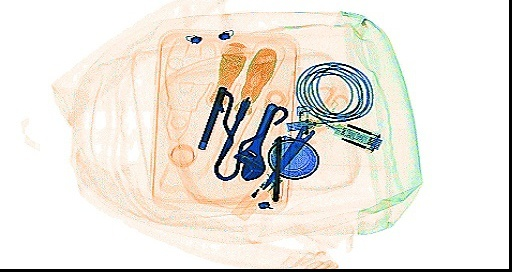lighter: (228, 171, 282, 223)
scissors: (258, 82, 350, 190)
slingshot: (213, 85, 288, 182)
